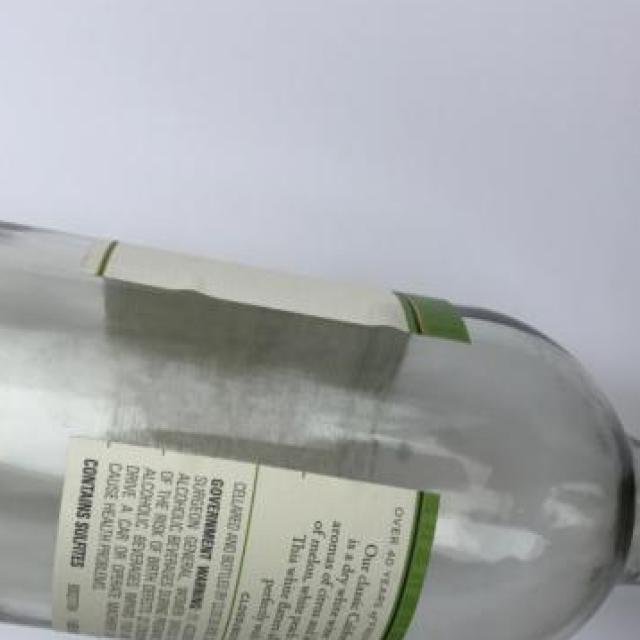organic: (0, 217, 635, 628)
